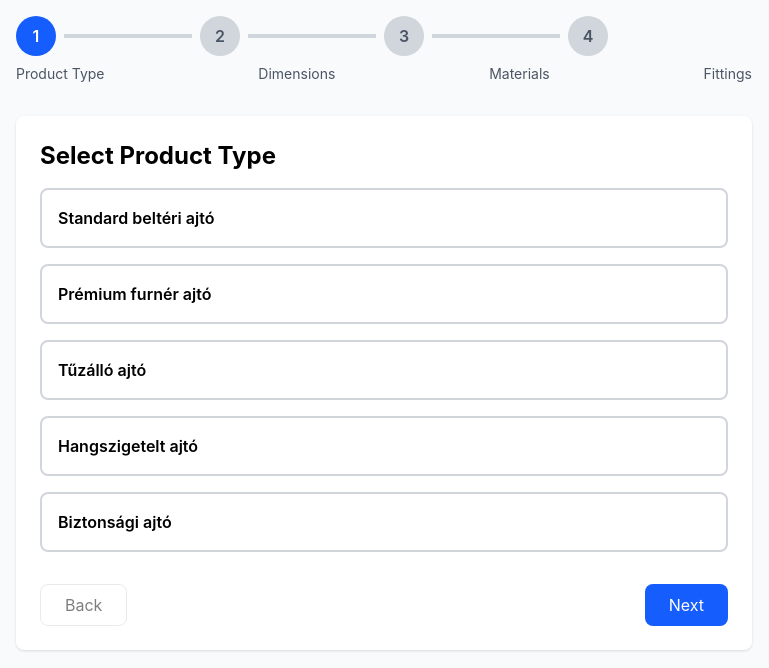
Test: ProductConfiguratorWizard › allows navigation to step 3 after entering valid dimensions
Navigate to step 2
Click the button "Standard beltéri ajtó" at (136, 218), box x1=40 y1=188 x2=728 y2=248
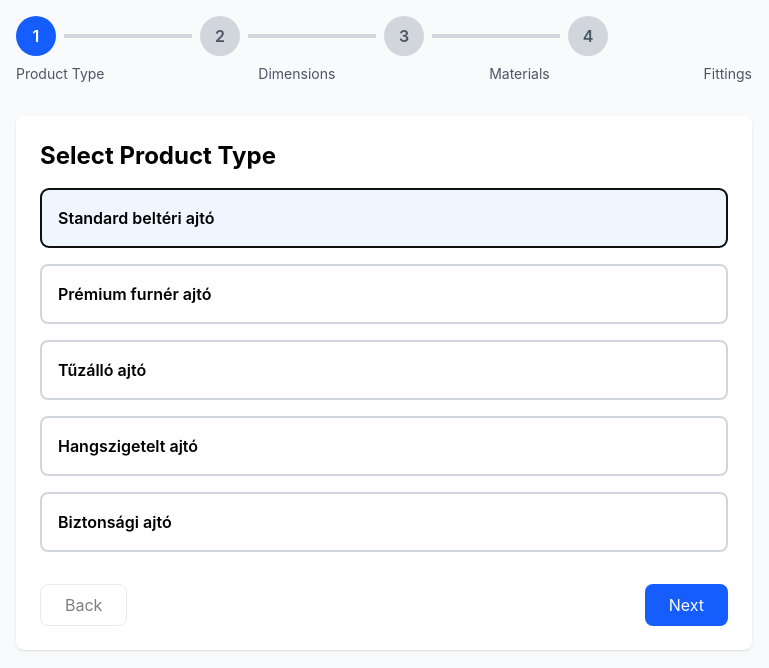
Click the button "Next" at (686, 605), box x1=645 y1=584 x2=728 y2=626
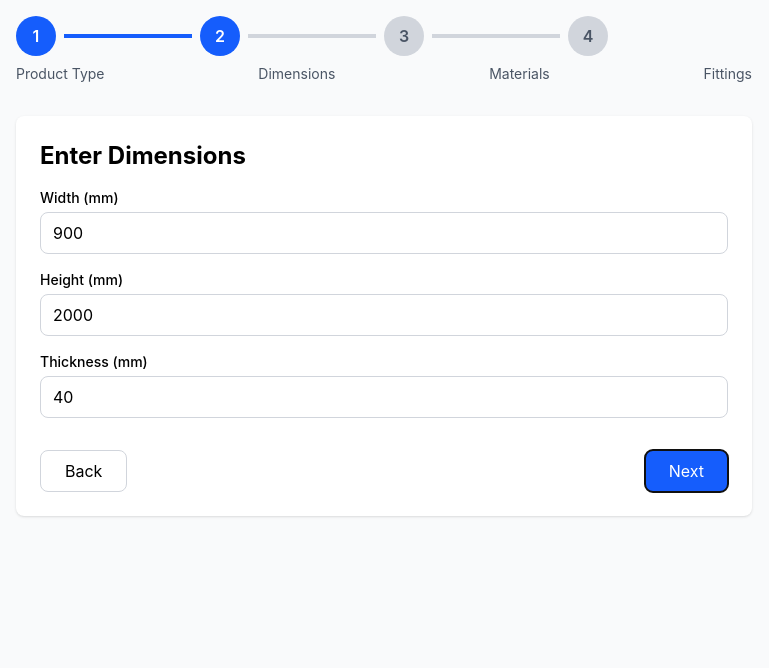
Default dimensions should be valid, just click next
Click the button "Next" at (686, 471), box x1=645 y1=450 x2=728 y2=492
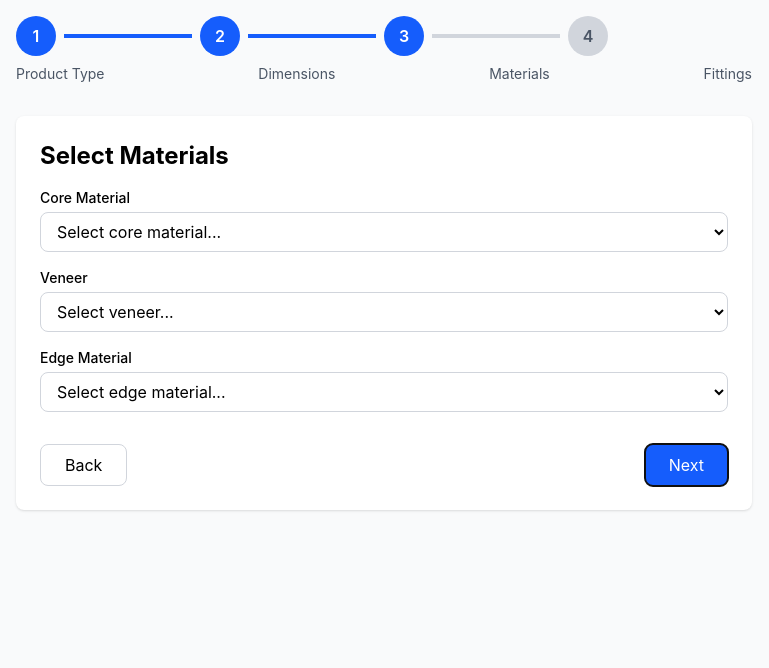
Expected: the heading "Select Materials" is shown, x1=40 y1=141 x2=229 y2=170
